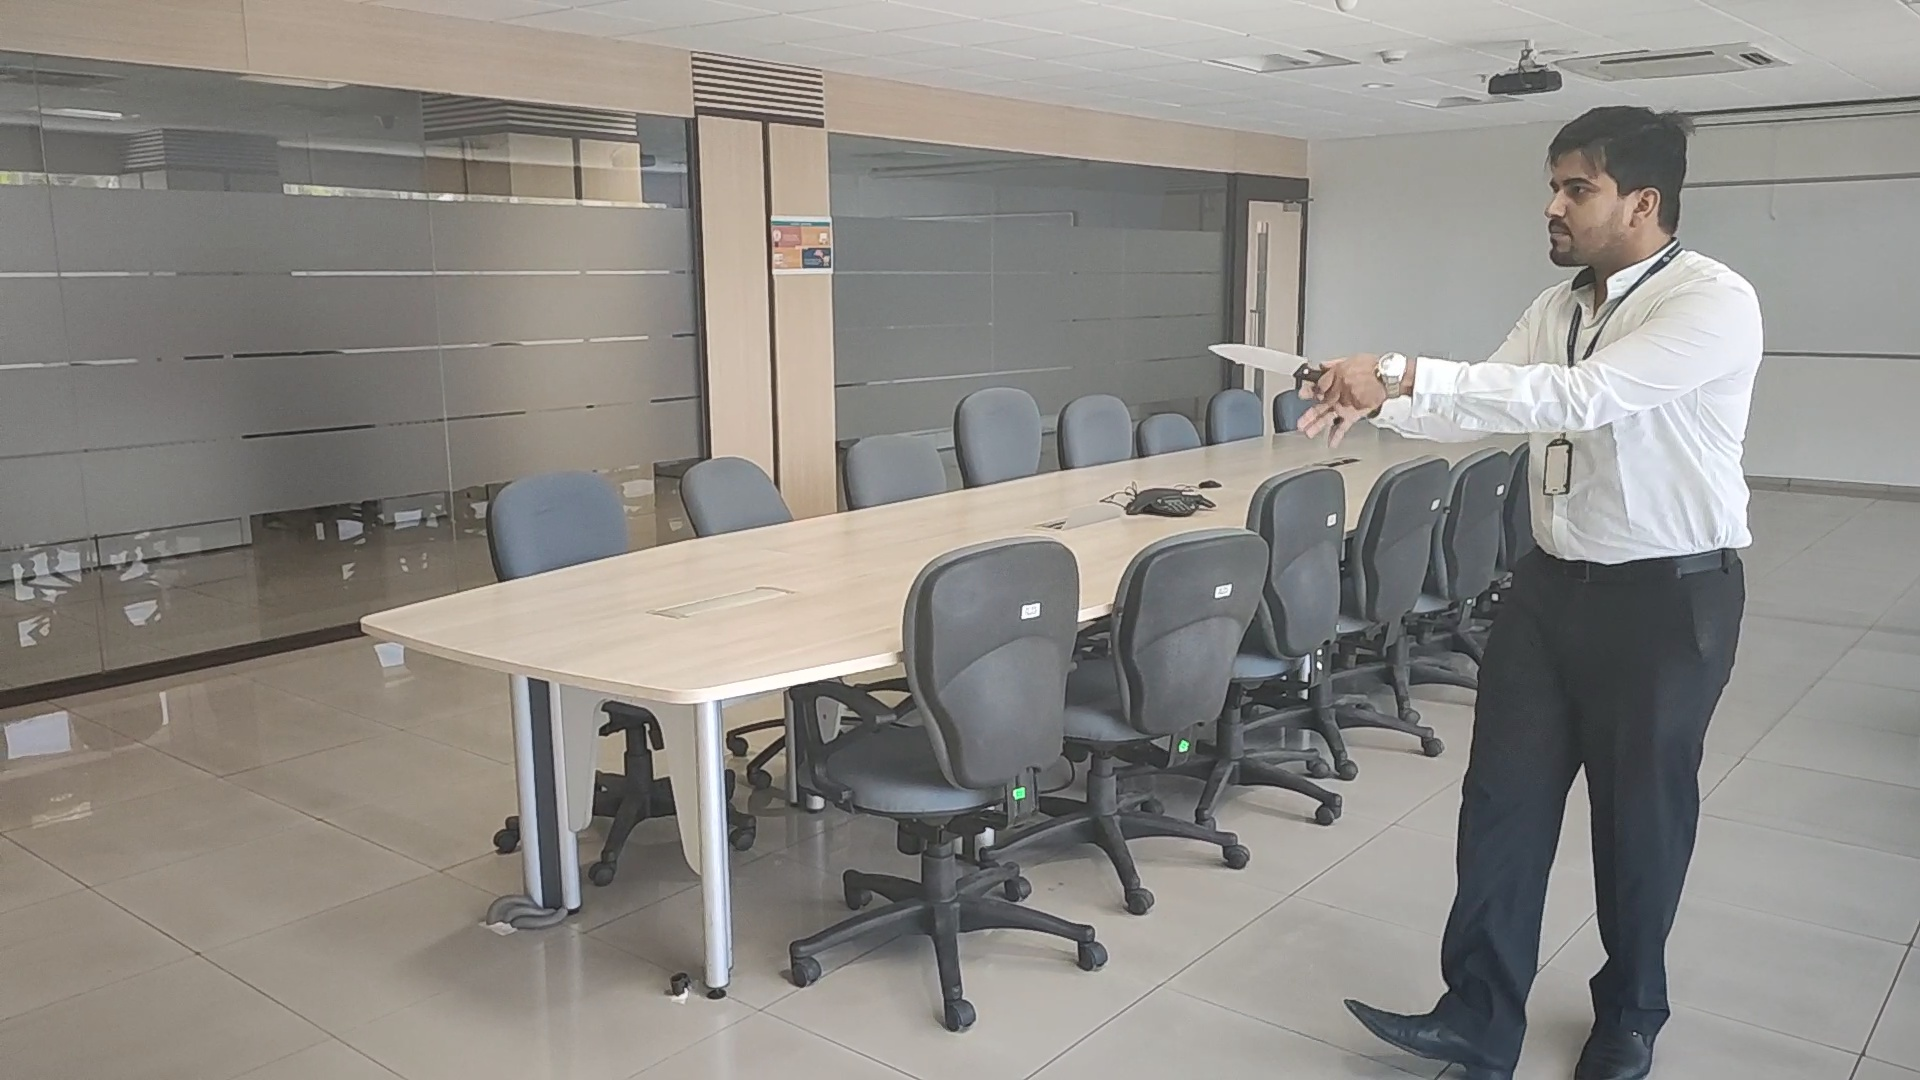knife: (1207, 342, 1313, 382)
